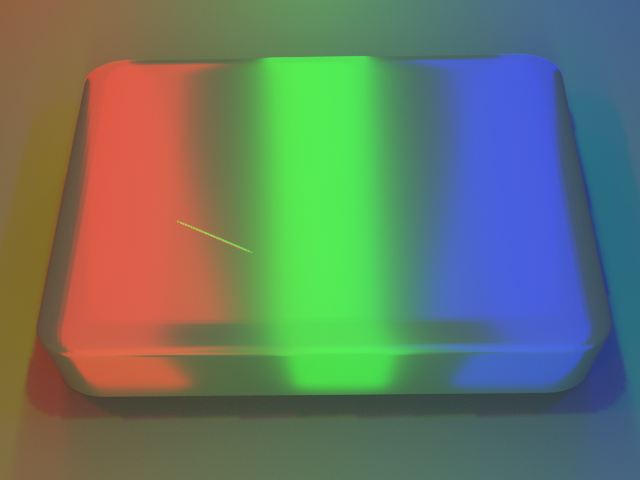scratch: (58, 157, 334, 321)
